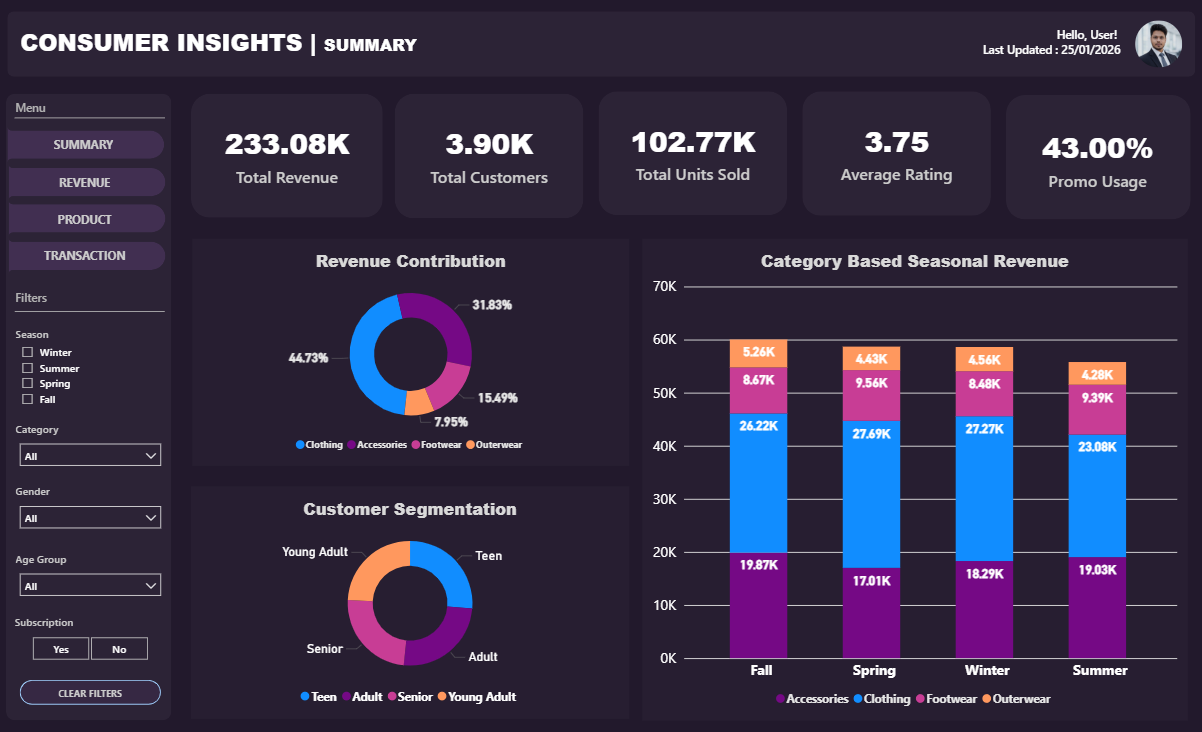

What the dashboard file says about the page in this screenshot:
{"tool":"powerbi","page":{"name":"Summary","canvas":[1400,847],"ordinal":0},"visuals":[{"type":"shape","box":[12.9,13.2,1372.9,75.7],"z":0},{"type":"textbox","box":[22.9,24.3,510,54.3],"z":1000},{"type":"textbox","box":[1016.7,23.9,308.3,54.2],"z":2000},{"type":"image","box":[1312.2,18.8,64.4,64.4],"z":3000},{"type":"shape","box":[12,108,191,724],"z":4000},{"type":"textbox","box":[17.3,109.3,91.3,38.7],"z":5000},{"type":"shape","box":[12.7,139.7,181.3,54],"z":6000},{"type":"actionButton","box":[13.3,153,176,26.7],"z":7000},{"type":"shape","box":[22,128.7,173.3,15.3],"z":8000},{"type":"shape","box":[14.3,182.8,181.3,54],"z":9000},{"type":"actionButton","box":[15,196.1,176,26.7],"z":10000},{"type":"shape","box":[14.3,225.9,181.3,54],"z":11000},{"type":"actionButton","box":[15,239.2,176,26.7],"z":12000},{"type":"shape","box":[13.8,268.9,181.3,54],"z":13000},{"type":"actionButton","box":[14.5,282.2,176,26.7],"z":14000},{"type":"textbox","box":[17.2,328.9,91.7,38.3],"z":15000},{"type":"shape","box":[22.2,352.2,173.3,15],"z":16000},{"type":"slicer","title":"Season","fields":{"Values":["consumer_behaviour consumer_data.season"]},"box":[11.8,367,193,119],"z":17000},{"type":"slicer","title":"Category","fields":{"Values":["consumer_behaviour consumer_data.category"]},"box":[11.8,476.4,194.5,72.7],"z":18000},{"type":"slicer","title":"Age Group","fields":{"Values":["consumer_behaviour consumer_data.age_group"]},"box":[11.8,626.4,194.5,73.6],"z":19000},{"type":"slicer","title":"Subscription","fields":{"Values":["consumer_behaviour consumer_data.subscription_status"]},"box":[11.8,700,192.7,70.9],"z":20000},{"type":"slicer","title":"Gender","fields":{"Values":["consumer_behaviour consumer_data.gender"]},"box":[11.8,549.1,194.5,77.3],"z":21000},{"type":"actionButton","title":"Clear Filters","box":[26.9,785.4,163.1,28.5],"z":22000},{"type":"group","id":"g1","title":"Group 1","box":[225,108.3,218.3,143.3],"z":23000},{"type":"group","id":"g2","title":"Group 1","box":[460.6,108.3,218,143.3],"z":24000},{"type":"group","id":"g3","title":"Group 1","box":[696,105,218,143.3],"z":25000},{"type":"group","id":"g4","title":"Group 1","box":[931.3,105,218,143.3],"z":26000},{"type":"shape","box":[696,105,218,143.3],"z":27000,"group":"g3"},{"type":"shape","box":[931.3,105,218,144],"z":27000,"group":"g4"},{"type":"shape","box":[225,108.3,221.7,143.3],"z":27000,"group":"g1"},{"type":"shape","box":[460.6,108.3,218,144],"z":27000,"group":"g2"},{"type":"group","id":"g5","title":"Group 1","box":[1166.6,109.2,213.4,143.8],"z":27000},{"type":"shape","box":[1166.6,109.2,213.4,143.8],"z":27000,"group":"g5"},{"type":"card","fields":{"Values":["consumer_behaviour consumer_data.Total Units Sold"]},"box":[700.6,117.9,209.7,114.5],"z":28000,"group":"g3"},{"type":"card","fields":{"Values":["consumer_behaviour consumer_data.Average Review Rating"]},"box":[935.9,118,209.7,115],"z":28000,"group":"g4"},{"type":"card","fields":{"Values":["consumer_behaviour consumer_data.Total Revenue"]},"box":[229.7,121.2,213.2,114.5],"z":28000,"group":"g1"},{"type":"card","fields":{"Values":["consumer_behaviour consumer_data.Total Customers"]},"box":[465.2,121.3,209.7,115],"z":28000,"group":"g2"},{"type":"card","fields":{"Values":["consumer_behaviour consumer_data.Promotion Usage %"]},"box":[1169.1,125.4,206.2,115],"z":28000,"group":"g5"},{"type":"donutChart","title":"Revenue Contribution","fields":{"Category":["consumer_behaviour consumer_data.category"],"Y":["consumer_behaviour consumer_data.Total Revenue"]},"box":[226.2,276.2,505,262.5],"z":28000},{"type":"columnChart","title":"Category Based Seasonal Revenue","fields":{"Category":["consumer_behaviour consumer_data.season"],"Y":["consumer_behaviour consumer_data.Total Revenue"],"Series":["consumer_behaviour consumer_data.category"]},"box":[747.1,275.7,630,557.1],"z":29000},{"type":"donutChart","title":"Customer Segmentation","fields":{"Category":["consumer_behaviour consumer_data.age_group"],"Y":["CountNonNull(consumer_behaviour consumer_data.customer_id)"]},"box":[225,562.5,506.2,268.8],"z":30000}]}

Visuals, with their boxes in screenshot pixels (x1, y1, x2, y2), scaled from the page's 1400x847 canvas onto the 1202x732 screenshot:
shape: <bbox>11, 11, 1190, 77</bbox>
textbox: <bbox>20, 21, 458, 68</bbox>
textbox: <bbox>873, 21, 1138, 67</bbox>
image: <bbox>1127, 16, 1182, 72</bbox>
shape: <bbox>10, 93, 174, 719</bbox>
textbox: <bbox>15, 94, 93, 128</bbox>
shape: <bbox>11, 121, 167, 167</bbox>
actionButton: <bbox>11, 132, 163, 155</bbox>
shape: <bbox>19, 111, 168, 124</bbox>
shape: <bbox>12, 158, 168, 205</bbox>
actionButton: <bbox>13, 169, 164, 193</bbox>
shape: <bbox>12, 195, 168, 242</bbox>
actionButton: <bbox>13, 207, 164, 230</bbox>
shape: <bbox>12, 232, 168, 279</bbox>
actionButton: <bbox>12, 244, 164, 267</bbox>
textbox: <bbox>15, 284, 93, 317</bbox>
shape: <bbox>19, 304, 168, 317</bbox>
"Season" slicer: <bbox>10, 317, 176, 420</bbox>
"Category" slicer: <bbox>10, 412, 177, 475</bbox>
"Age Group" slicer: <bbox>10, 541, 177, 605</bbox>
"Subscription" slicer: <bbox>10, 605, 176, 666</bbox>
"Gender" slicer: <bbox>10, 475, 177, 541</bbox>
"Clear Filters" actionButton: <bbox>23, 679, 163, 703</bbox>
"Group 1" group: <bbox>193, 94, 381, 217</bbox>
"Group 1" group: <bbox>395, 94, 583, 217</bbox>
"Group 1" group: <bbox>598, 91, 785, 215</bbox>
"Group 1" group: <bbox>800, 91, 987, 215</bbox>
shape: <bbox>598, 91, 785, 215</bbox>
shape: <bbox>800, 91, 987, 215</bbox>
shape: <bbox>193, 94, 384, 217</bbox>
shape: <bbox>395, 94, 583, 218</bbox>
"Group 1" group: <bbox>1002, 94, 1185, 219</bbox>
shape: <bbox>1002, 94, 1185, 219</bbox>
card - consumer_behaviour consumer_data.Total Units Sold: <bbox>602, 102, 782, 201</bbox>
card - consumer_behaviour consumer_data.Average Review Rating: <bbox>804, 102, 984, 201</bbox>
card - consumer_behaviour consumer_data.Total Revenue: <bbox>197, 105, 380, 204</bbox>
card - consumer_behaviour consumer_data.Total Customers: <bbox>399, 105, 579, 204</bbox>
card - consumer_behaviour consumer_data.Promotion Usage %: <bbox>1004, 108, 1181, 208</bbox>
"Revenue Contribution" donutChart: <bbox>194, 239, 628, 466</bbox>
"Category Based Seasonal Revenue" columnChart: <bbox>641, 238, 1182, 720</bbox>
"Customer Segmentation" donutChart: <bbox>193, 486, 628, 718</bbox>
